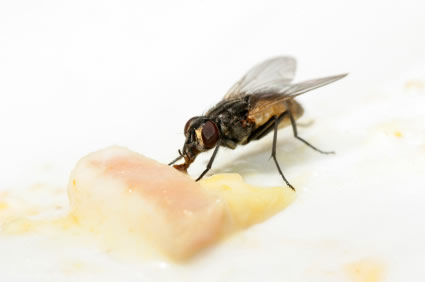green bottles fly: (175, 13, 351, 200)
